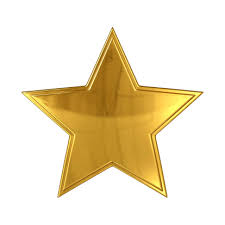star: (18, 24, 205, 200)
